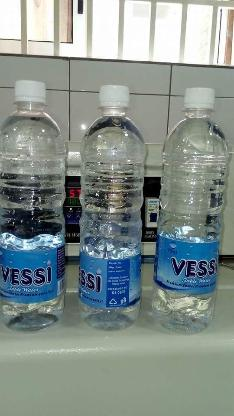Plastic Bottle: (152, 88, 228, 333), (78, 84, 146, 330), (0, 80, 65, 332)
